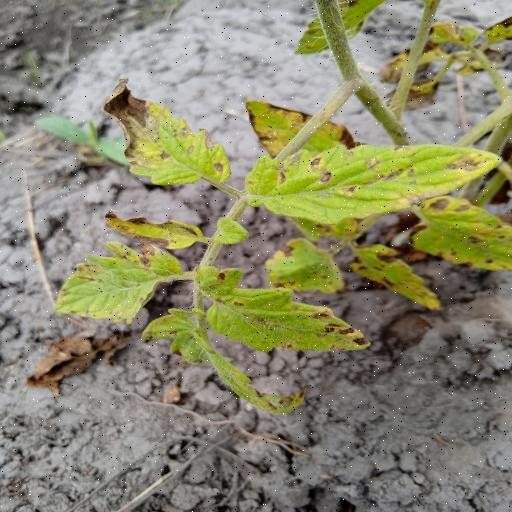Tomato_Brown_Spots: (248, 139, 505, 227), (98, 82, 235, 190), (203, 280, 375, 358), (52, 238, 186, 322)
